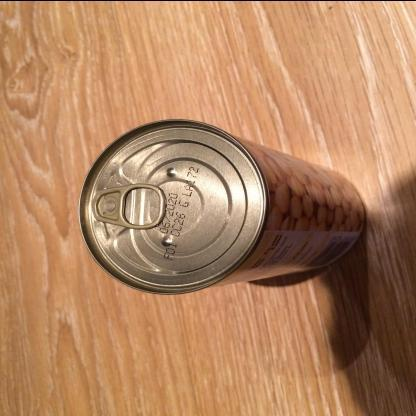metal: (78, 117, 368, 296)
